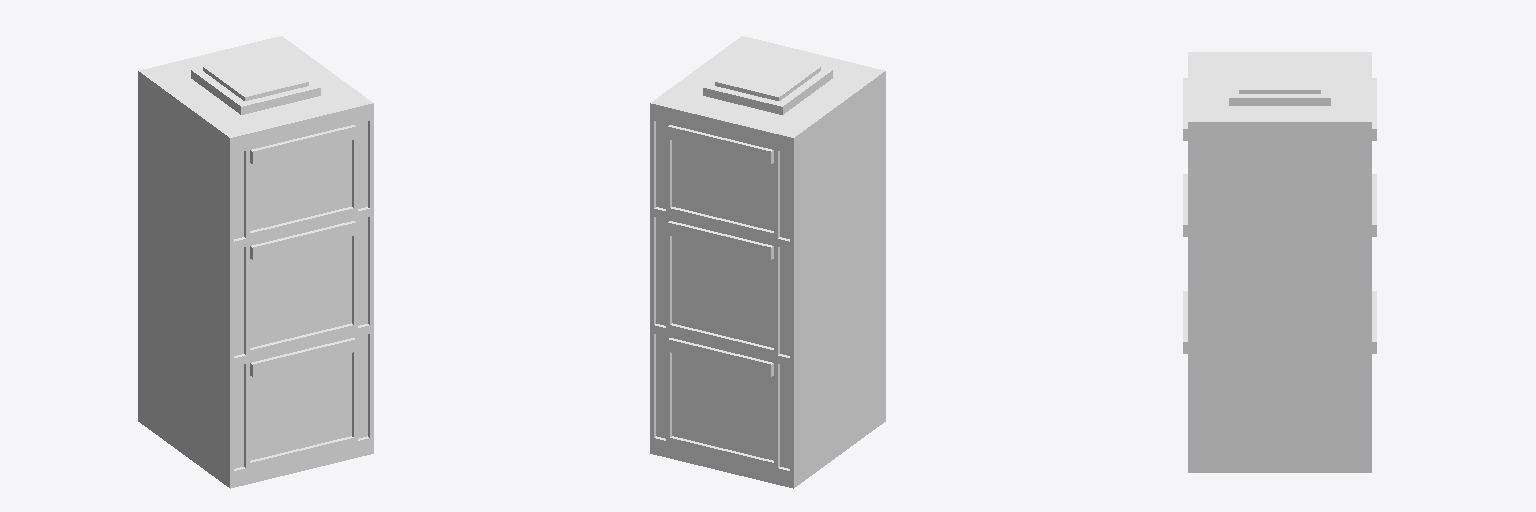
Rendered from CONCEPT_LIGHTS.obj.
3 renders of one model, left to right at view 1: azimuth 30°, elevation 25°; view 2: azimuth 150°, elevation 25°; view 3: azimuth 270°, elevation 25°, orthographic.
Bounding box in the file's own units: 36 × 87 × 42.